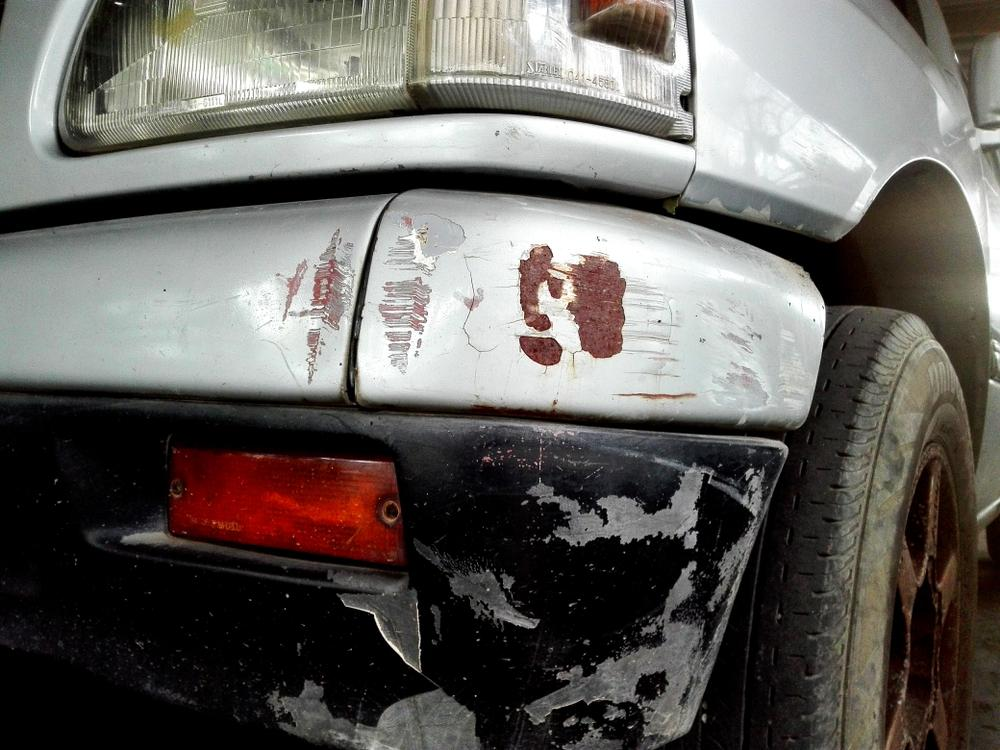scratch: (257, 426, 766, 750), (379, 210, 811, 413), (274, 227, 351, 387)
